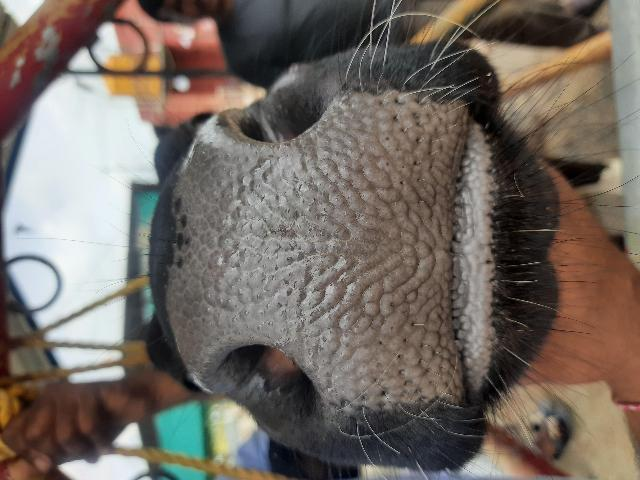Muzzle: (177, 163, 441, 335)
